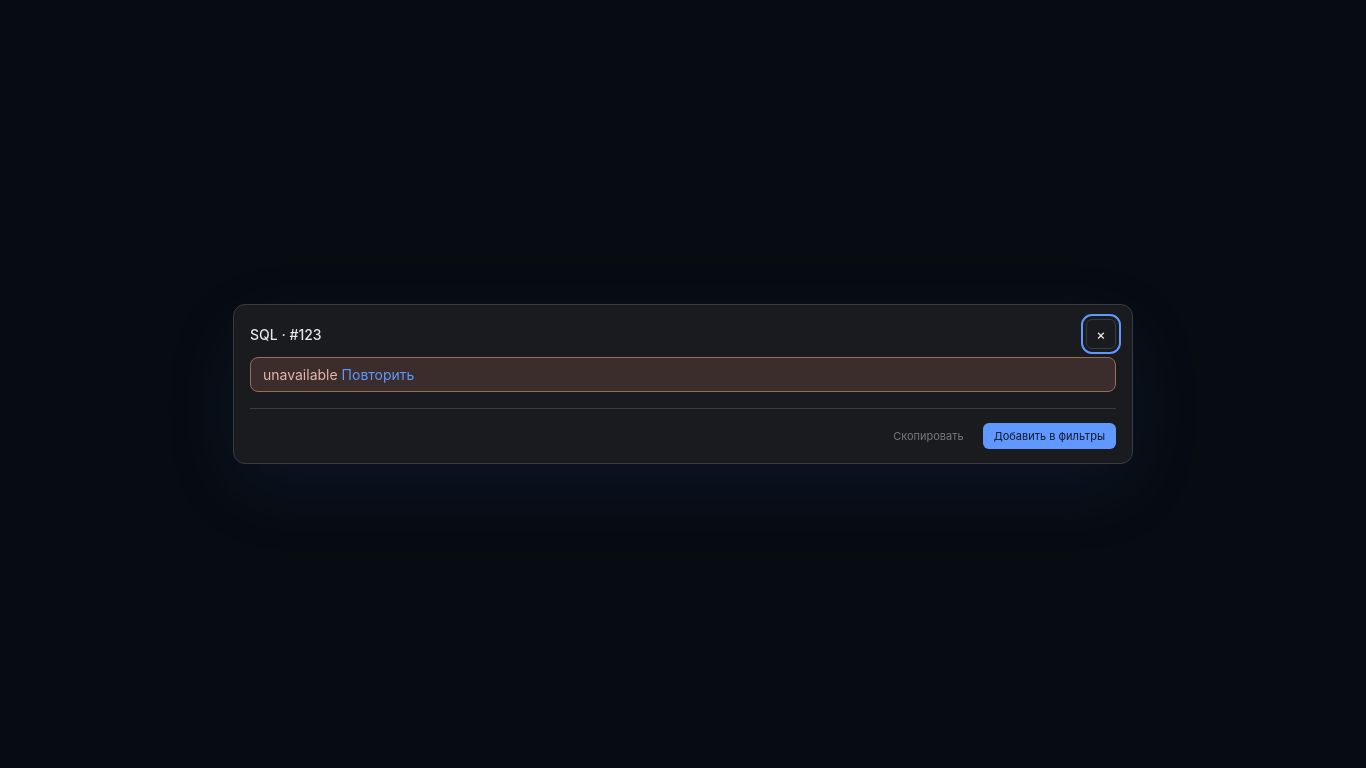
retries an error without closing the dialog: {}
The width and height of the screenshot is (1366, 768).
Check: the message "unavailable Повторить" is shown, box [250,357,1116,392]
Check: the button "Скопировать" is disabled, box [882,423,975,449]
What coordinates should you click on to do the following:
click the button "Повторить"
I would click on:
 (378, 374)
Its box is [342,366,414,383].
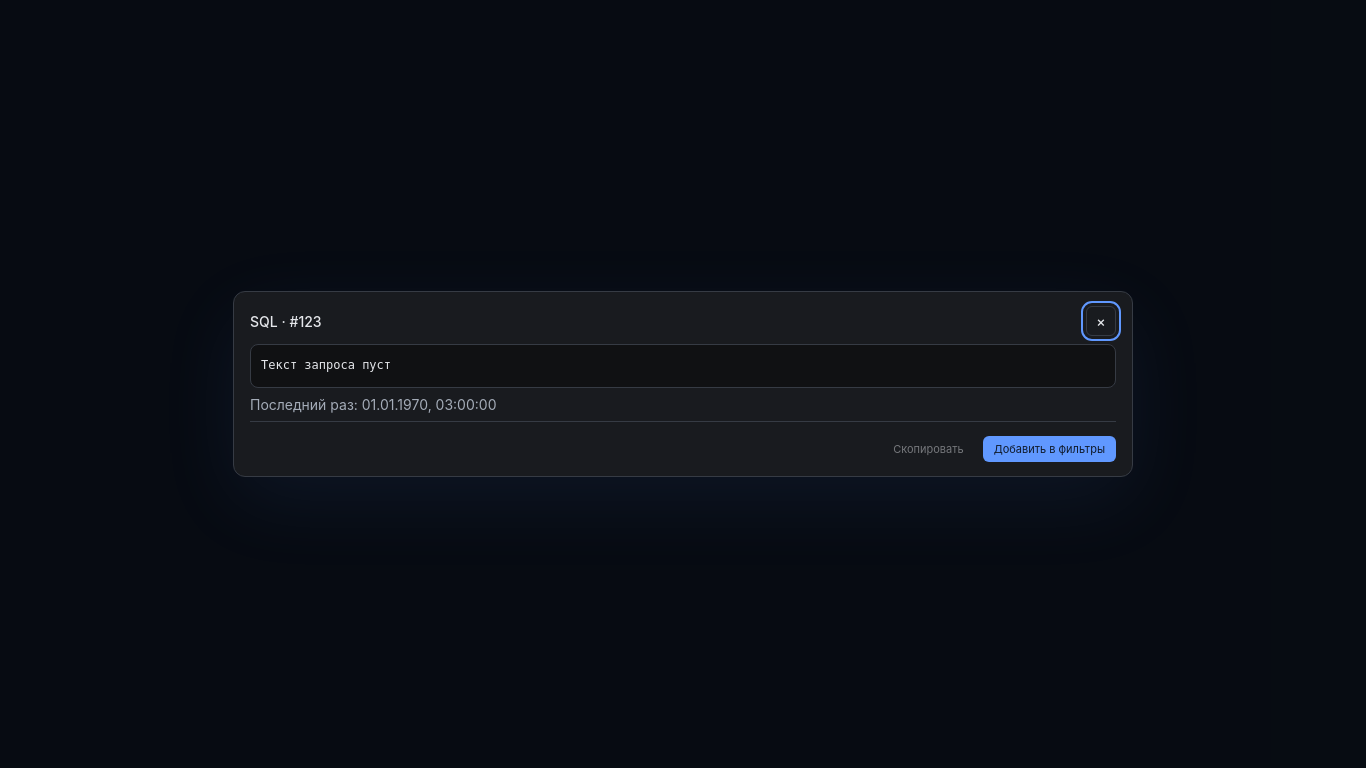
Check: the text "Текст запроса пуст" is shown, box [250,344,1116,388]
